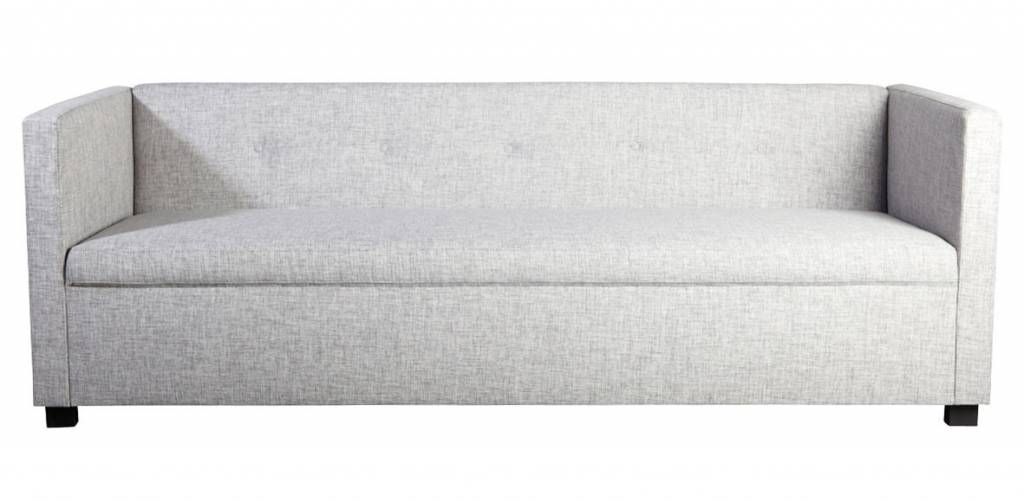chairs: (16, 78, 1003, 432)
